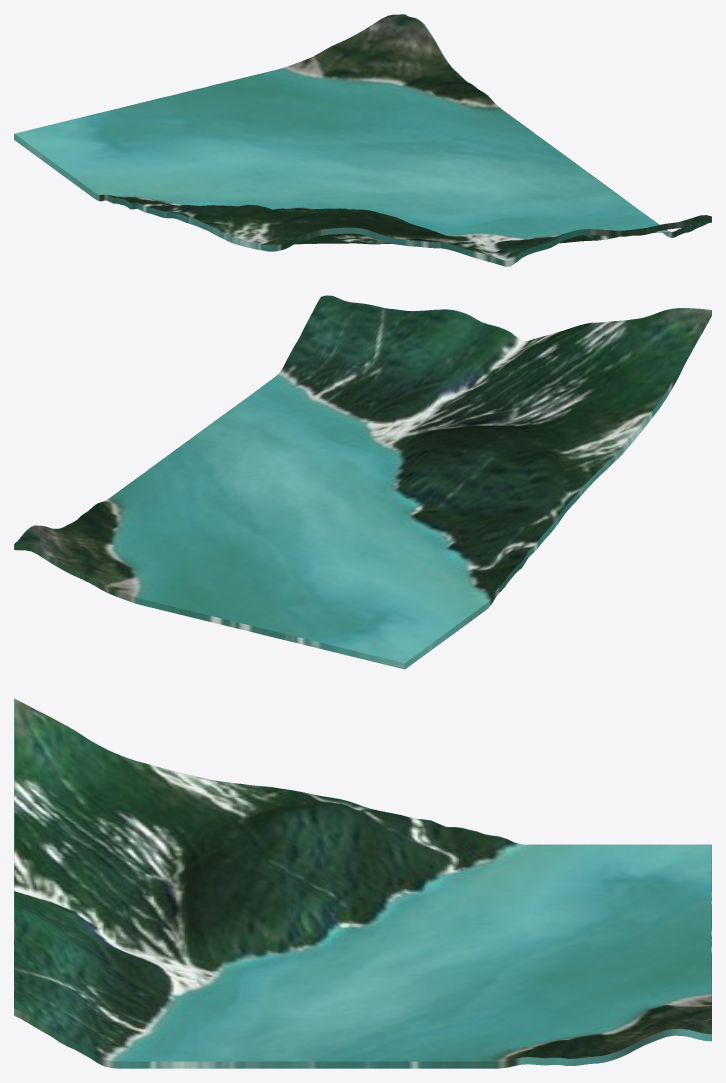
3 renders of one model, top to bottom at view 1: azimuth 30°, elevation 25°; view 2: azimuth 150°, elevation 25°; view 3: azimuth 270°, elevation 25°, orthographic. The views are drawn at different scales.
Visible parts, largest first — view 1: tile; view 2: tile; view 3: tile.
Part boxes in pixels (left/top/right/bottom): tile: left=14, top=14, right=711, bottom=266; tile: left=14, top=295, right=711, bottom=669; tile: left=14, top=698, right=711, bottom=1068.
Bounding box in the file's own units: 2025 × 667 × 2752.
Materials: 1 (1 with a texture image).
